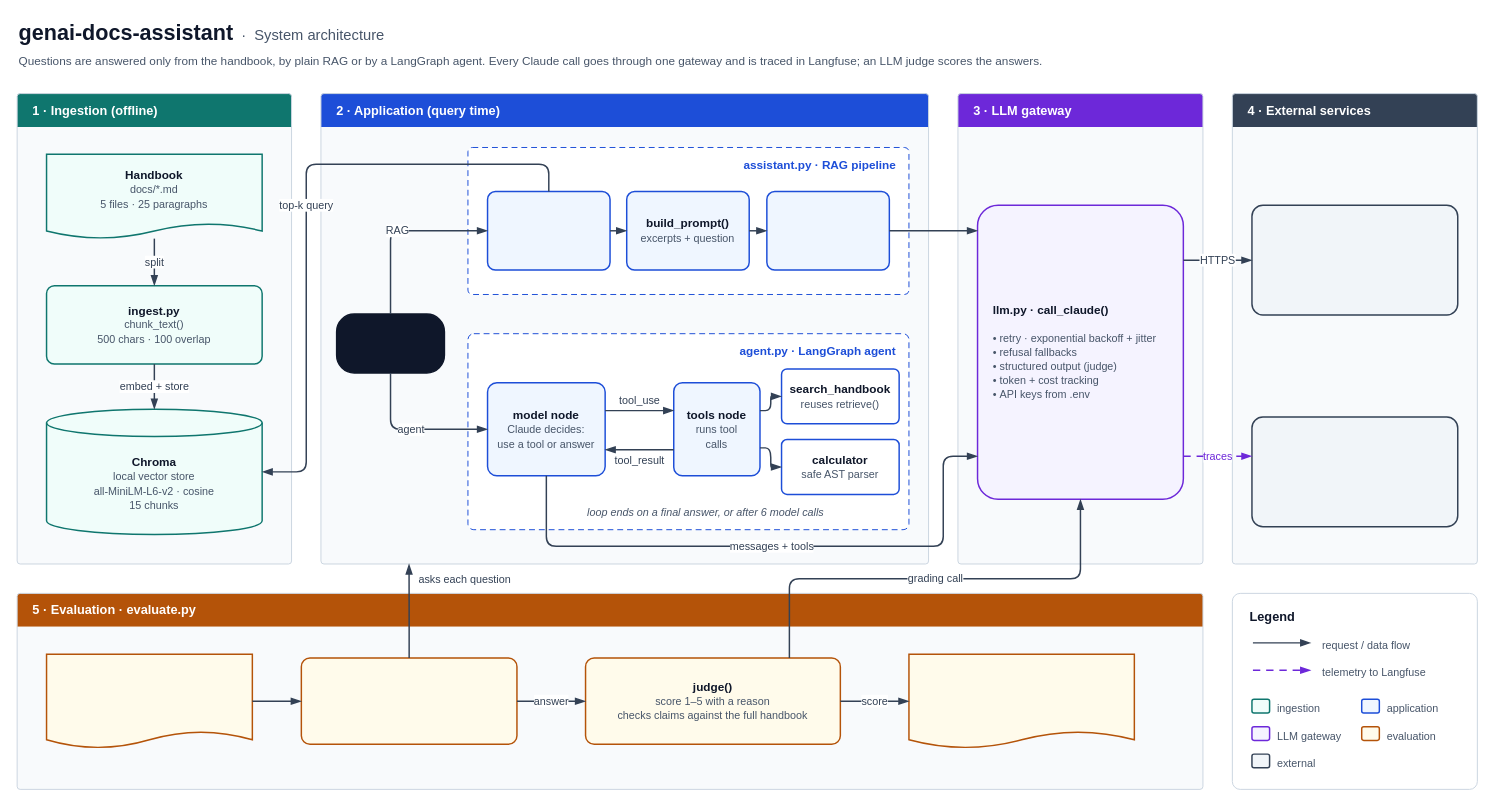
This 1495x807 diagram has some shape labels left out. Each missing label, with the centre of its shape:
"Anthropic API Claude Opus 5.5 adaptive thinking low / medium effort" belongs at (1354,259).
"eval_results/*.json average + low scorers baseline vs improvement" belongs at (1021,701).
"eval_set.json 12 questions + notes 2 deliberately unanswerable" belongs at (149,701).
"evaluate_case() runs RAG (or --agent) on every question" belongs at (408,701).
"generate() answers from excerpts only" belongs at (828,230).
"Langfuse Cloud one trace per question spans · generations cost · judge scores" belongs at (1354,471).
"Member question" belongs at (390,343).
"retrieve() top-k chunks" belongs at (548,230).
